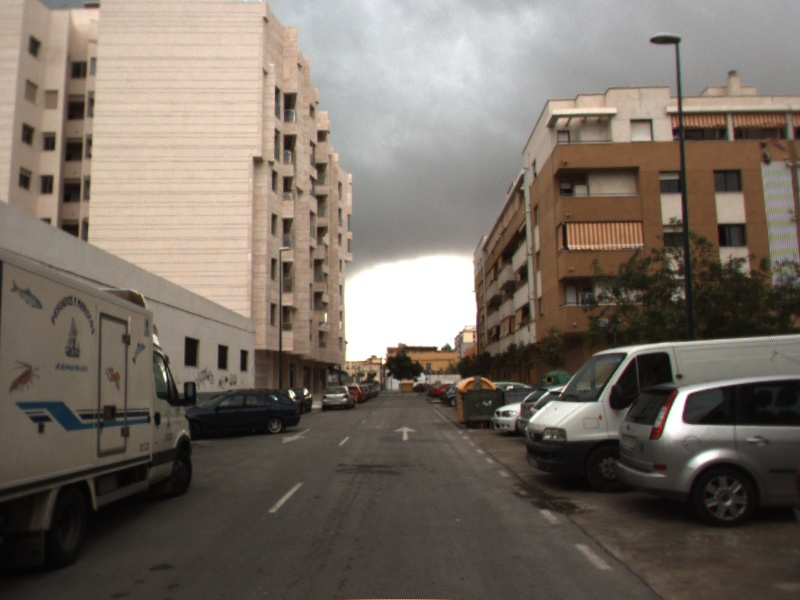STRAIGHT: (391, 423, 421, 443)
